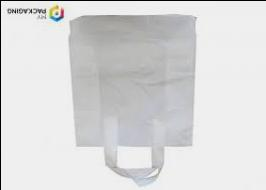Plastic: (66, 11, 199, 186)
